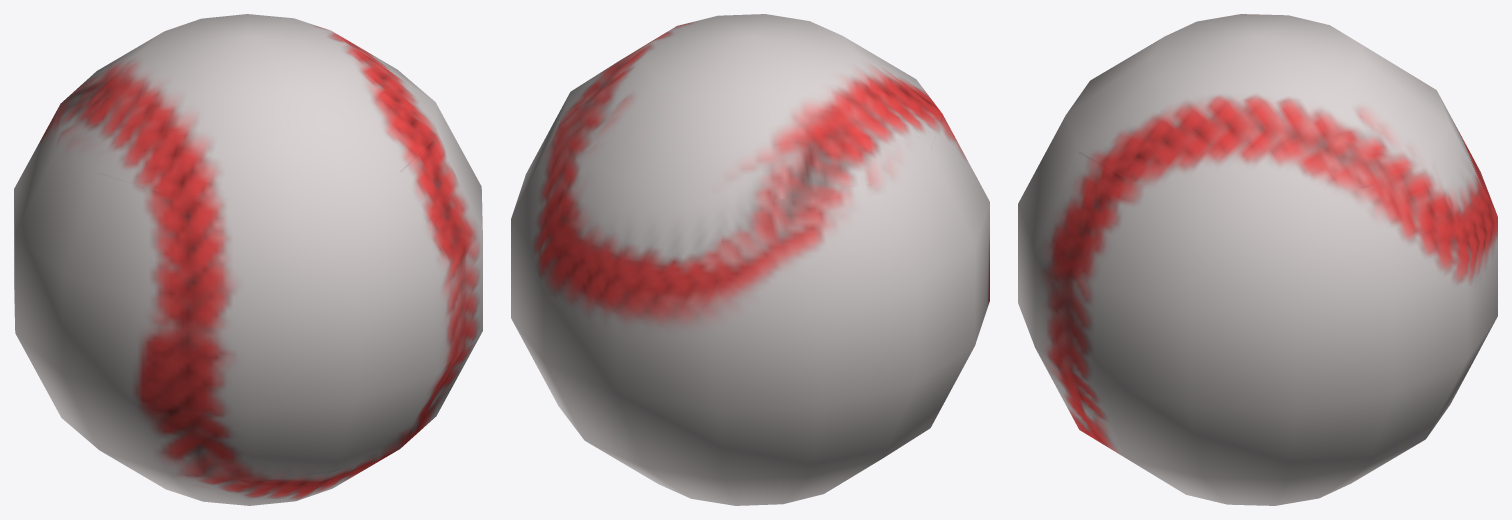
File: baseball exp resend.fbx
3 views of the same model, side by side, from view 1: azimuth 30°, elevation 25°; view 2: azimuth 150°, elevation 25°; view 3: azimuth 270°, elevation 25° (orthographic).
Visible parts, largest first — view 1: Sphere001; view 2: Sphere001; view 3: Sphere001.
Part boxes in pixels (box(x1,y1,x2,y2)): Sphere001: box(14, 14, 482, 505); Sphere001: box(511, 14, 989, 505); Sphere001: box(1018, 14, 1497, 505).
Size of the model in its own units: 5.24 by 5.44 by 5.29.
